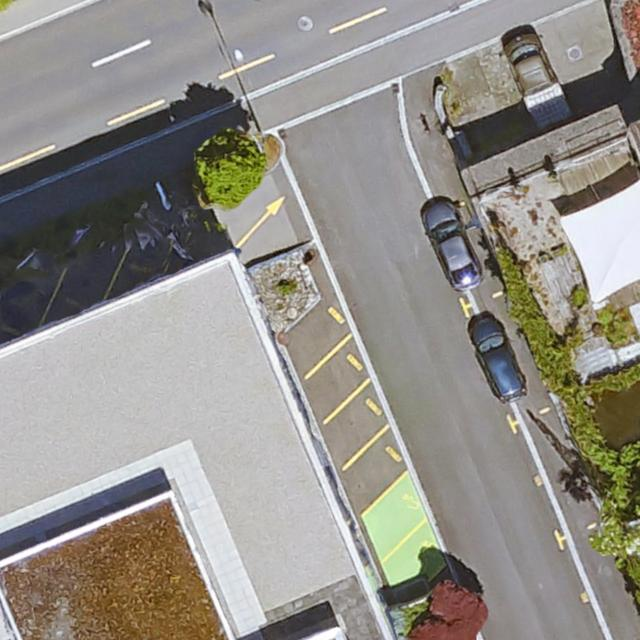tree: (196, 133, 260, 208)
